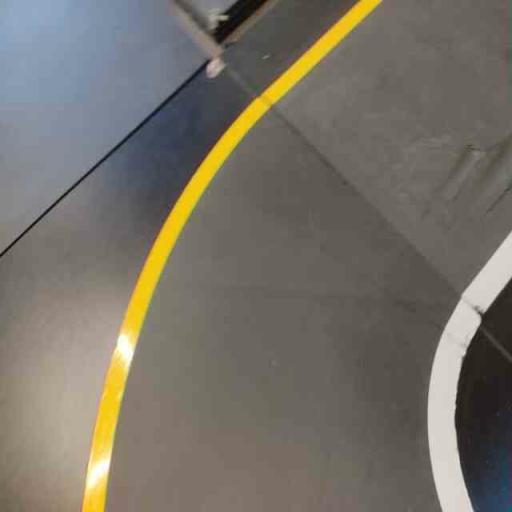right: (56, 60, 511, 511)
